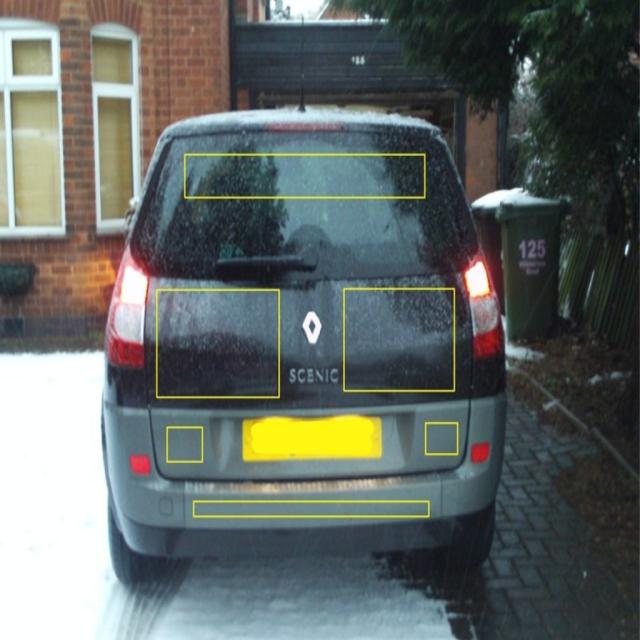Sport-Utility-Vehicle: (100, 107, 507, 583)
